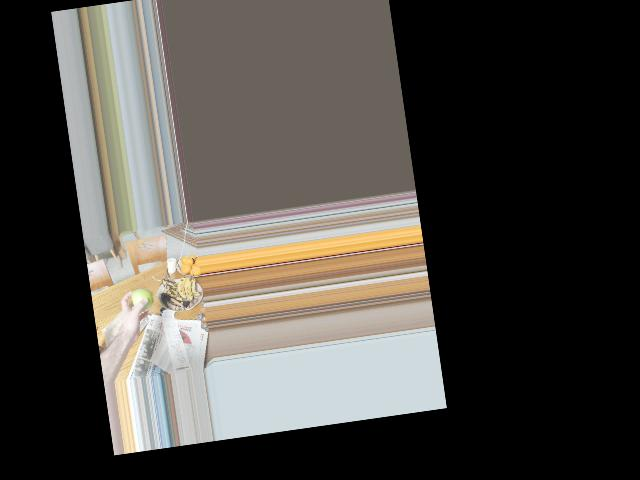apple: (130, 287, 155, 312)
